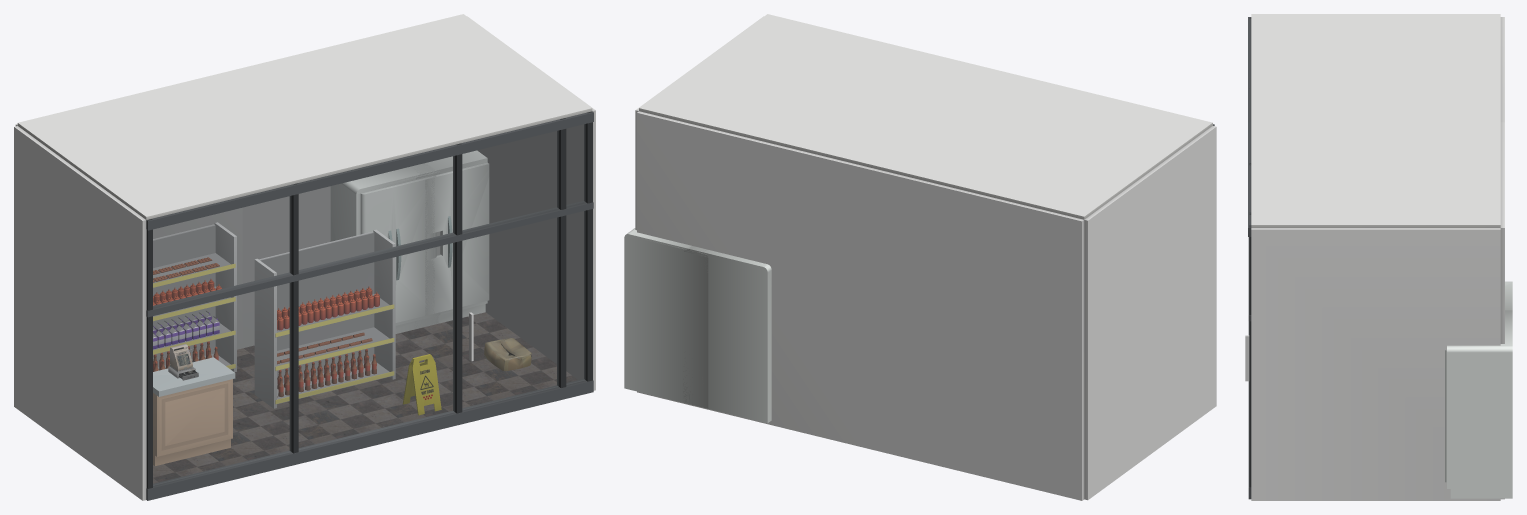
Rendered from shop_conv.glb.
3 renders of one model, left to right at view 1: azimuth 30°, elevation 25°; view 2: azimuth 150°, elevation 25°; view 3: azimuth 270°, elevation 25°, orthographic. The views are drawn at different scales.
Parts seen in each view (by area): view 1: body; view 2: body; view 3: body.
Boxes of the visible parts, x1=… form: body: x1=14, y1=14, x2=595, y2=500; body: x1=624, y1=14, x2=1216, y2=500; body: x1=1245, y1=14, x2=1512, y2=500.
Size of the model in its own units: 6.17 by 3.76 by 3.21.
15 materials, 10 textured.
